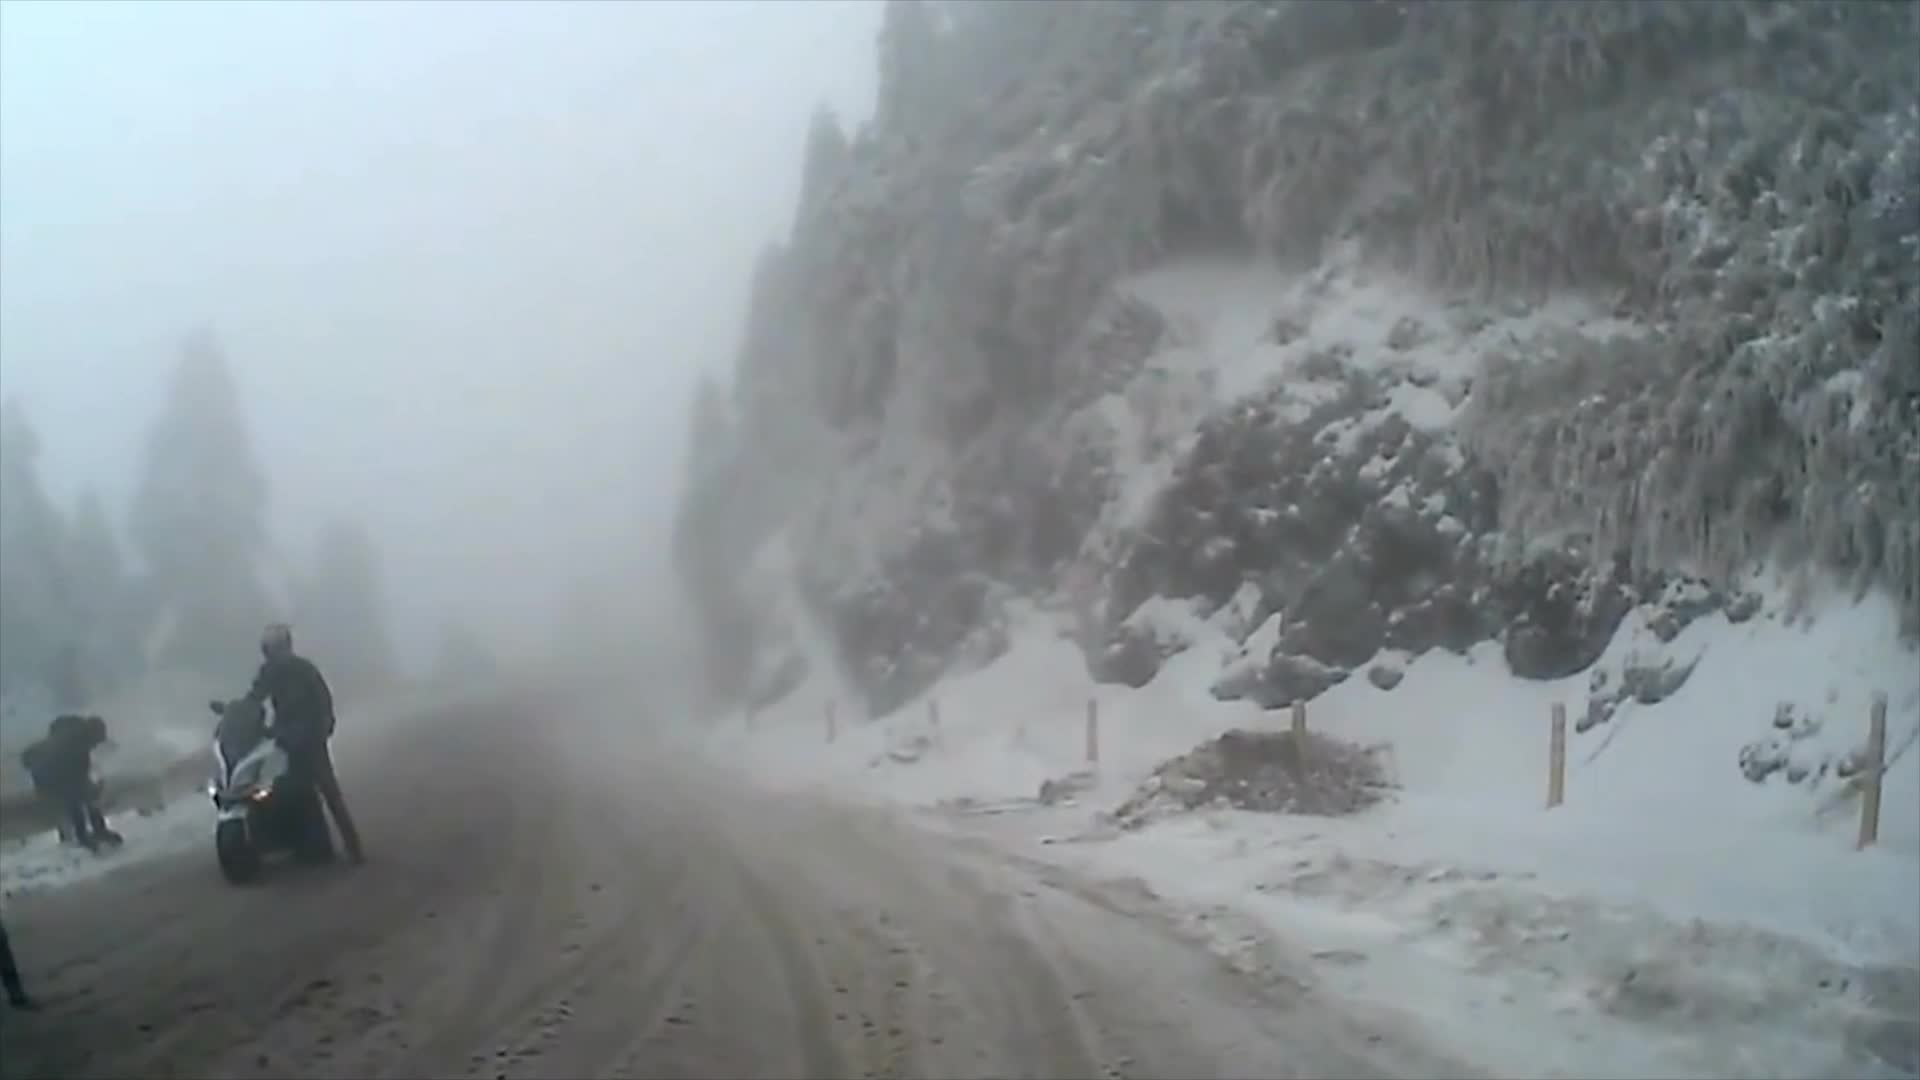pedestrian: (223, 622, 371, 878), (24, 720, 121, 859)
